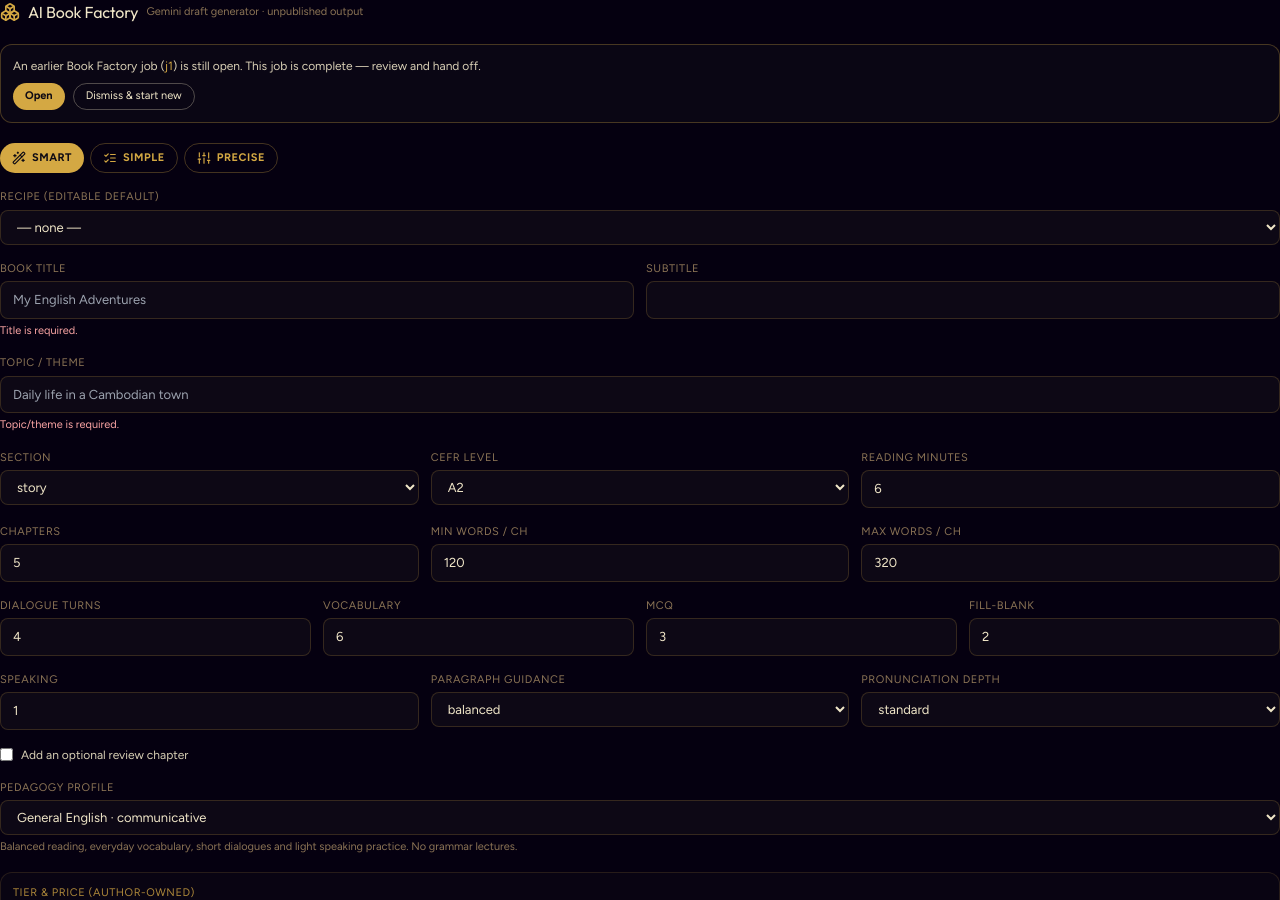
Test case: MEDIUM 13 — abort on unmount › export request aborts on unmount
The width and height of the screenshot is (1280, 900).
Later steps or results of the test are not shown.
Expected: the element with test id "bf-resume-banner" is shown, x1=0 y1=44 x2=1279 y2=122
Click the button with test id "bf-resume-continue" at [39, 96], box x1=13 y1=83 x2=65 y2=110
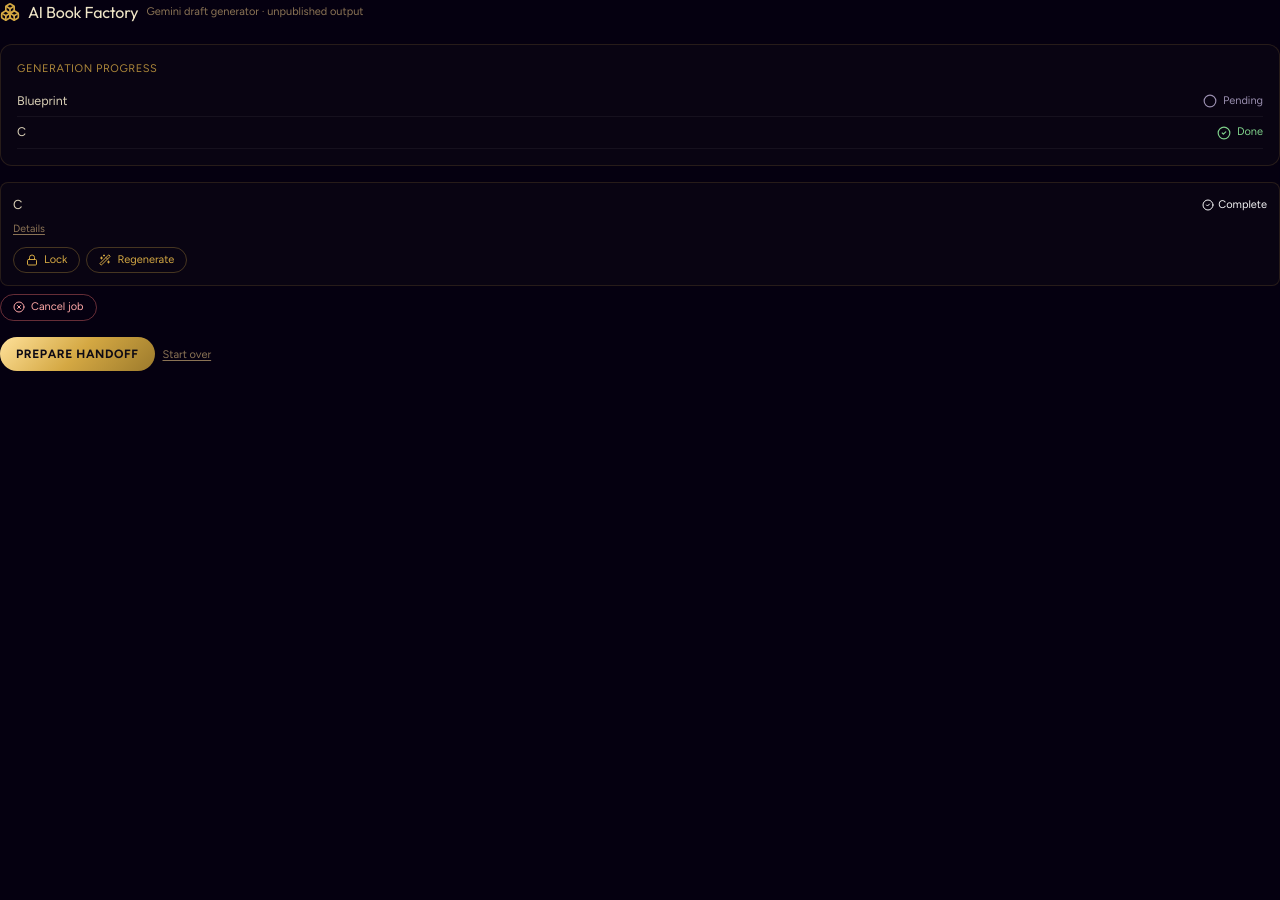
Expected: the button with test id "bf-prepare-handoff" is shown, x1=0 y1=336 x2=154 y2=370
